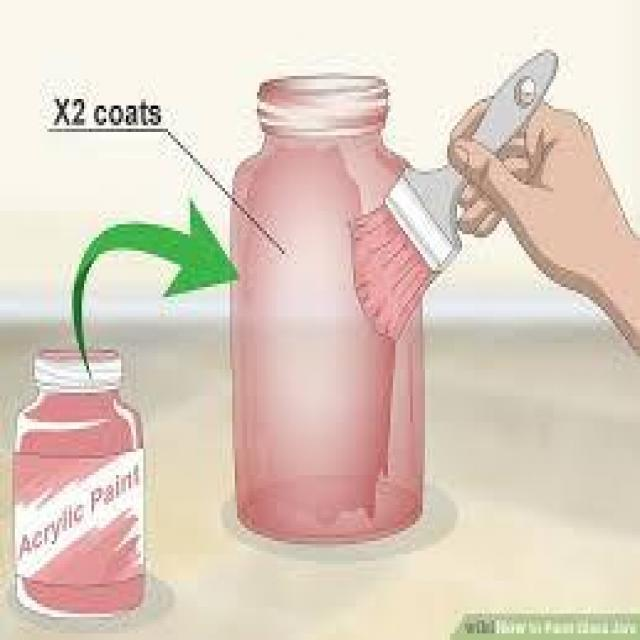glass: (10, 344, 151, 618)
